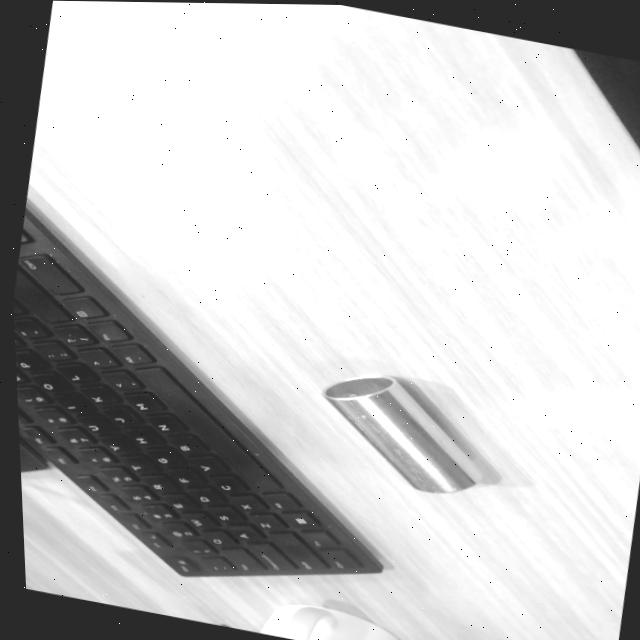Co_Lon: (320, 348, 488, 519)
